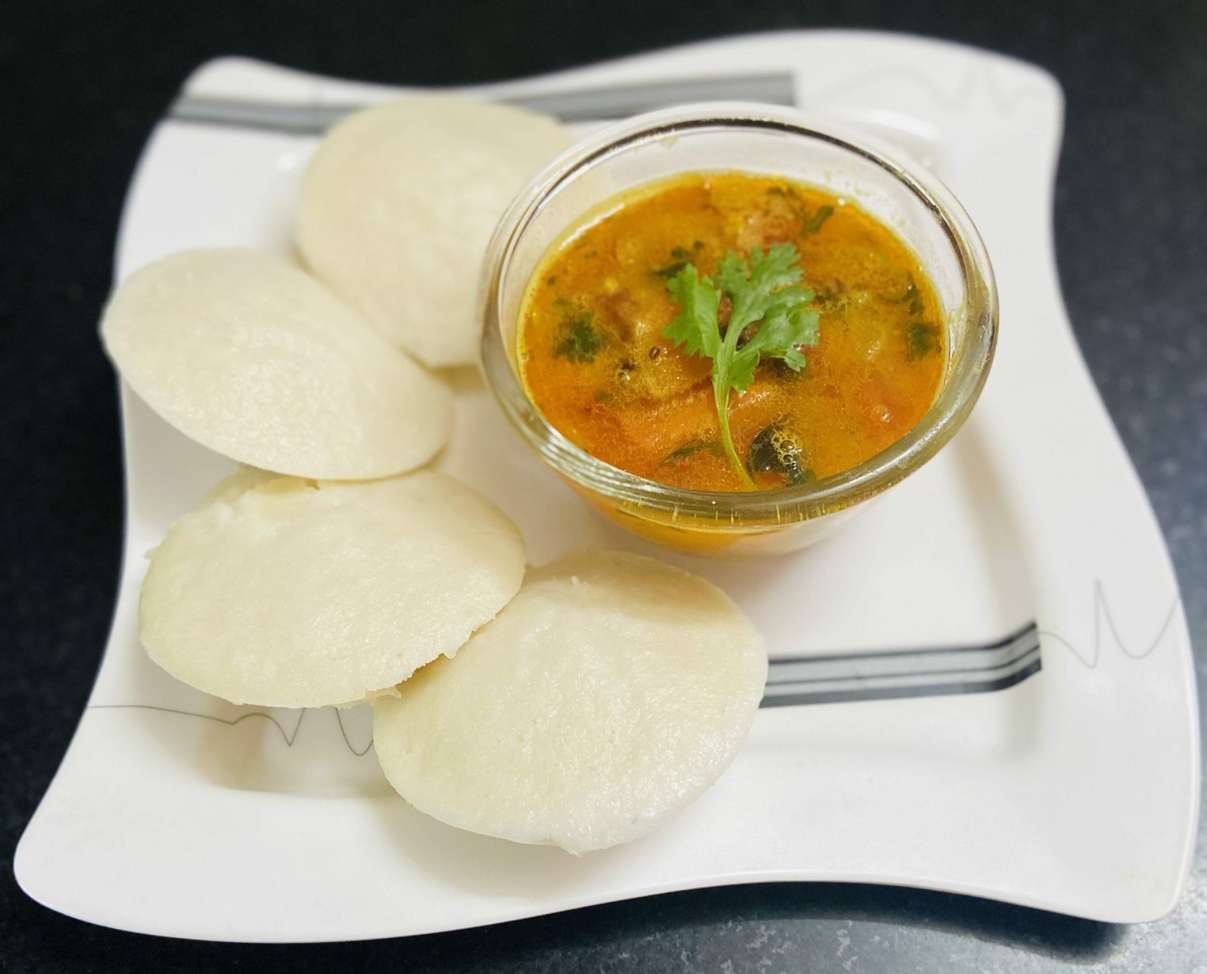Idli: (373, 554, 765, 858), (140, 464, 524, 710), (291, 92, 597, 368), (95, 236, 450, 473)
